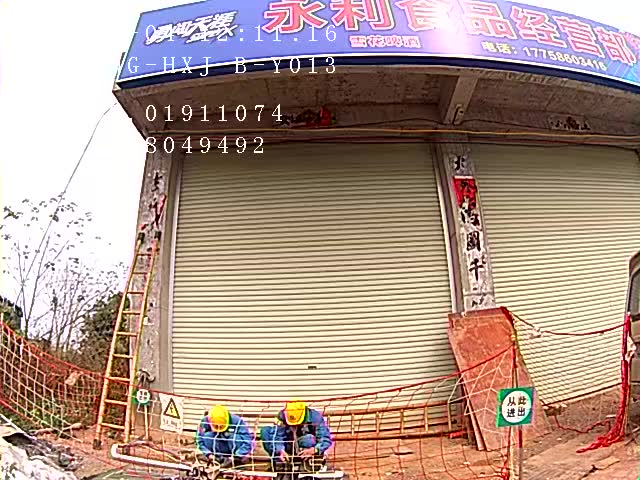halt: (205, 407, 233, 436), (283, 400, 309, 430)
